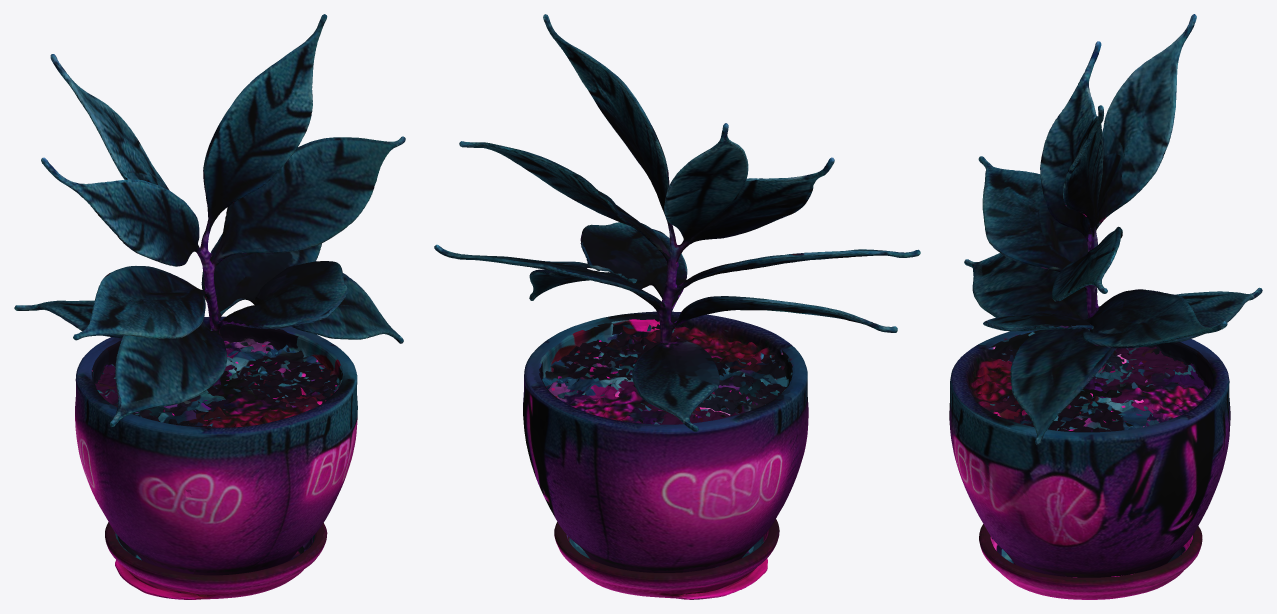
File: growth-planter-b-texture-wrap-2026-05-14T23-47-39-694Z.glb
The picture shows the model from 3 angles, left to right: view 1: azimuth 30°, elevation 25°; view 2: azimuth 150°, elevation 25°; view 3: azimuth 270°, elevation 25°; orthographic projection.
Parts seen in each view (by area): view 1: temp_mesh.ply; view 2: temp_mesh.ply; view 3: temp_mesh.ply.
Part boxes in pixels (left/top/right/bottom): temp_mesh.ply: left=14, top=14, right=405, bottom=599; temp_mesh.ply: left=434, top=14, right=920, bottom=599; temp_mesh.ply: left=949, top=14, right=1262, bottom=599.
Size of the model in its own units: 1.57 by 1.97 by 1.08.
Materials: 1 (1 with a texture image).
